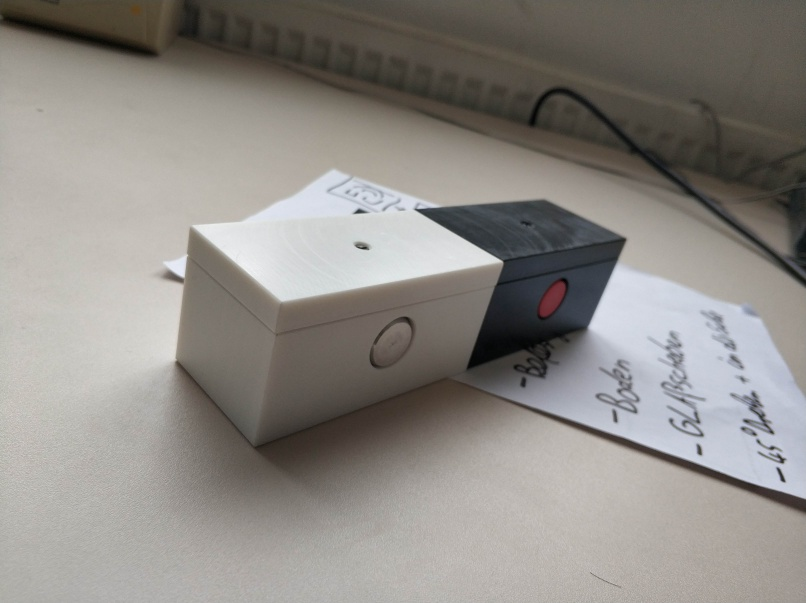black+black+red: (417, 194, 630, 366)
white+white+silver: (171, 206, 506, 454)
